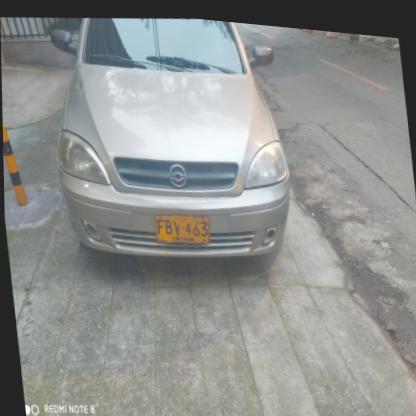placa: (149, 203, 214, 248)
